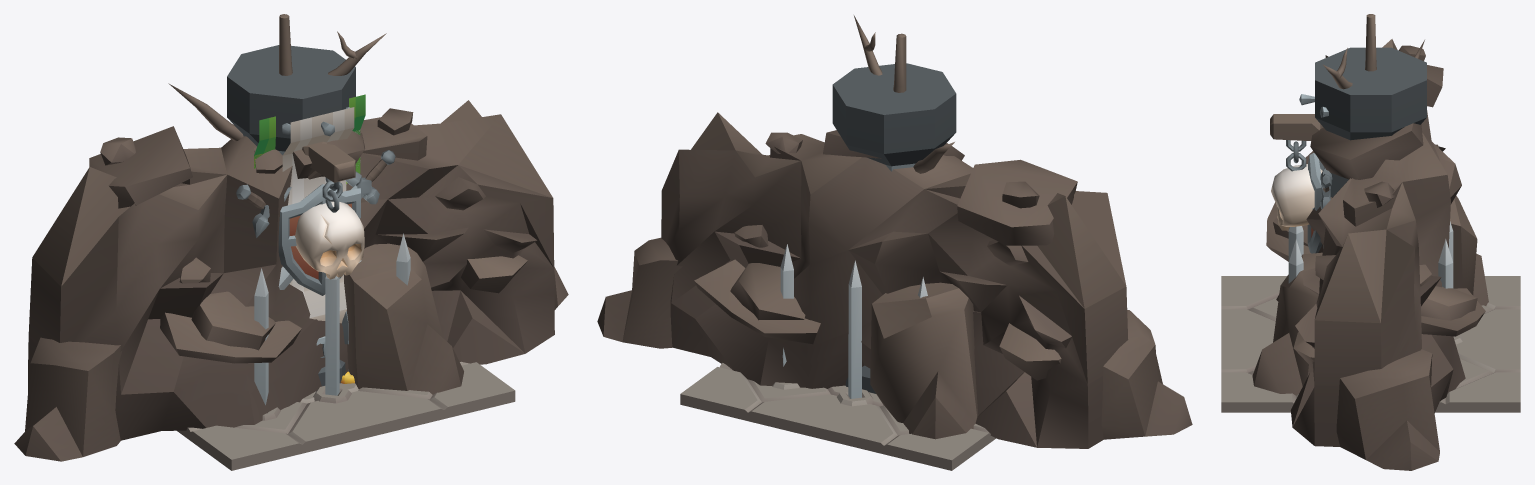
File: kaykit-props.glb
3 renders of one model, left to right at view 1: azimuth 30°, elevation 25°; view 2: azimuth 150°, elevation 25°; view 3: azimuth 270°, elevation 25°, orthographic. The views are drawn at different scales.
Parts seen in each view (by area): view 1: rubble_large, pillar_decorated, floor_tile_big_spikes, post_skull_skull, spikes, tree_dead_large, post_skull, banner_green; view 2: rubble_large, floor_tile_big_spikes, pillar_decorated, spikes, tree_dead_large; view 3: rubble_large, floor_tile_big_spikes, pillar_decorated, post_skull_skull, spikes, post_skull, tree_dead_large.
Boxes of the visible parts, bbox=[...] form: rubble_large: bbox=[14, 100, 568, 461]; pillar_decorated: bbox=[227, 45, 395, 386]; floor_tile_big_spikes: bbox=[177, 361, 515, 470]; post_skull_skull: bbox=[295, 177, 364, 279]; spikes: bbox=[254, 233, 410, 405]; tree_dead_large: bbox=[168, 14, 386, 141]; post_skull: bbox=[302, 141, 355, 182]; banner_green: bbox=[254, 94, 365, 183]; rubble_large: bbox=[597, 112, 1192, 448]; floor_tile_big_spikes: bbox=[680, 363, 995, 470]; pillar_decorated: bbox=[832, 63, 956, 393]; spikes: bbox=[780, 244, 927, 398]; tree_dead_large: bbox=[854, 15, 954, 173]; rubble_large: bbox=[1252, 39, 1488, 470]; floor_tile_big_spikes: bbox=[1221, 276, 1520, 412]; pillar_decorated: bbox=[1299, 47, 1426, 253]; post_skull_skull: bbox=[1271, 140, 1322, 230]; spikes: bbox=[1288, 221, 1453, 288]; post_skull: bbox=[1270, 114, 1323, 140]; tree_dead_large: bbox=[1323, 14, 1424, 89].
Bounding box in the file's own units: 8.13 × 5.18 × 4.
2 materials, 2 textured.
